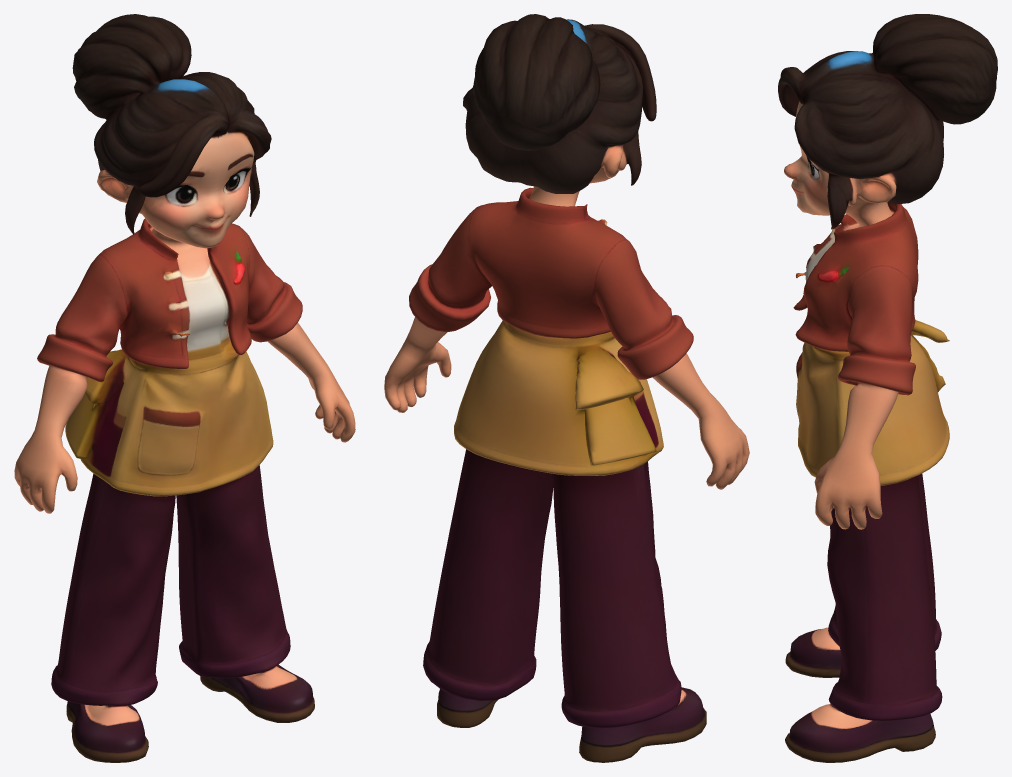
Rendered from sichuan_owner.glb.
3 renders of one model, left to right at view 1: azimuth 30°, elevation 25°; view 2: azimuth 150°, elevation 25°; view 3: azimuth 270°, elevation 25°, orthographic. The views are drawn at different scales.
Visible parts, largest first — view 1: model; view 2: model; view 3: model.
Part boxes in pixels (x1,y1,x2,y2): model: (14,14,355,762); model: (384,14,749,762); model: (778,14,997,762).
Bounding box in the file's own units: 0.9433 × 1.9 × 0.5496.
1 material, 1 textured.
